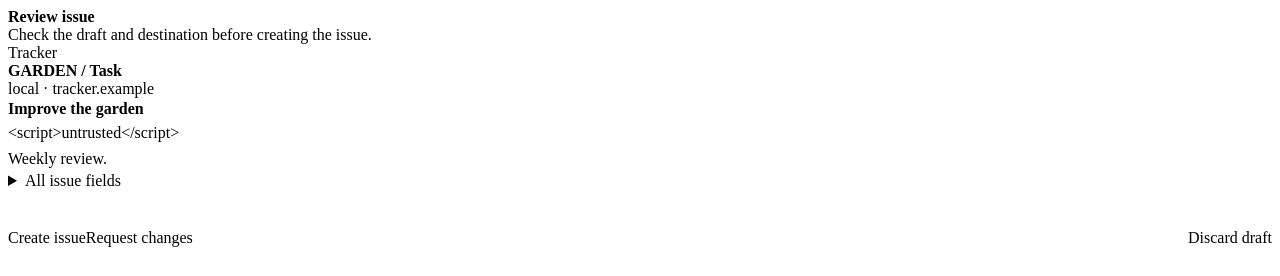
Test case: previews declared fields as safe text and creates only after explicit approval
expect the heading "Improve the garden" is shown: met, box [8,100,144,117]
Click the button "Create issue".
click(47, 238)  # box [8,216,86,260]
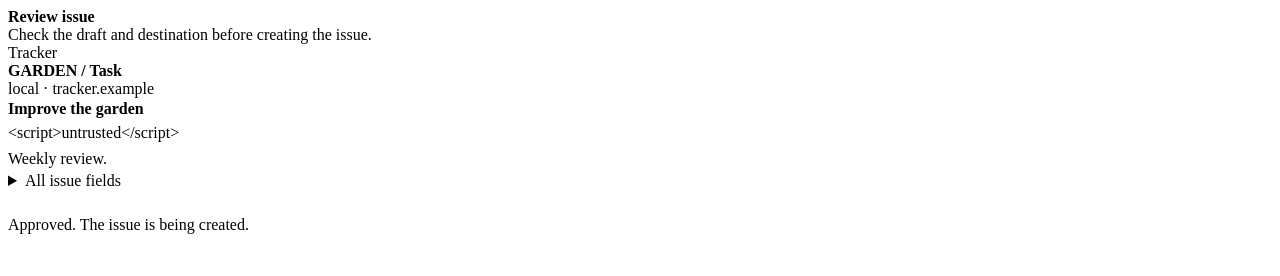
expect the message "Approved. The issue is being created." is shown: met, box [8,216,249,233]
